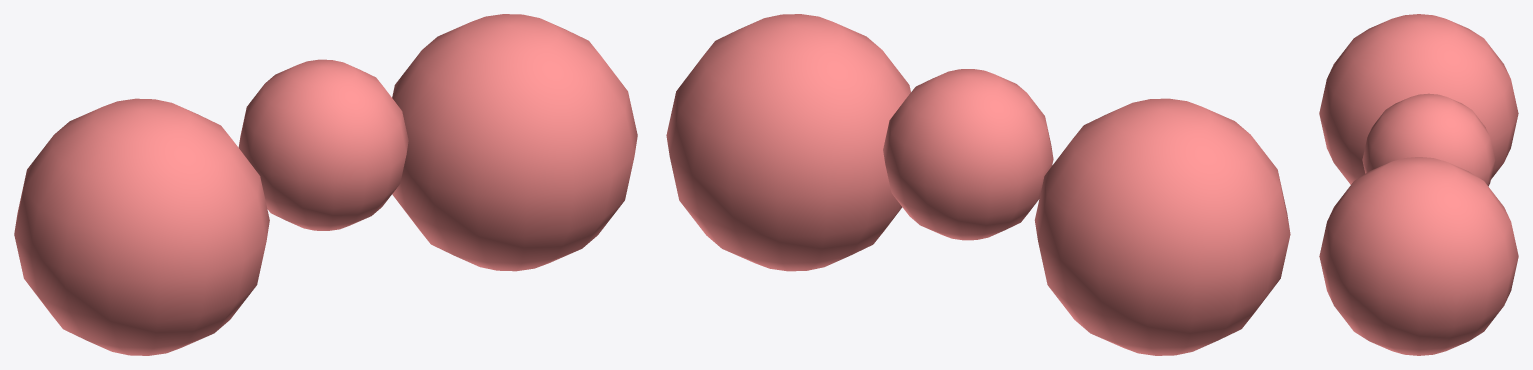
The model's file is only spheres.glb.
The picture shows the model from 3 angles, left to right: view 1: azimuth 30°, elevation 25°; view 2: azimuth 150°, elevation 25°; view 3: azimuth 270°, elevation 25°; orthographic projection. The views are drawn at different scales.
Parts seen in each view (by area): view 1: Sphere001.002, Sphere001, Sphere001.001; view 2: Sphere001.002, Sphere001, Sphere001.001; view 3: Sphere001, Sphere001.002, Sphere001.001.
Part boxes in pixels (<box>): Sphere001.002: <box>14,98,269,355</box>; Sphere001: <box>392,14,637,271</box>; Sphere001.001: <box>238,59,408,230</box>; Sphere001.002: <box>1034,98,1290,355</box>; Sphere001: <box>666,14,910,271</box>; Sphere001.001: <box>883,69,1053,240</box>; Sphere001: <box>1319,157,1518,355</box>; Sphere001.002: <box>1319,14,1518,184</box>; Sphere001.001: <box>1362,93,1495,186</box>.
Size of the model in its own units: 0.0738 by 0.0285 by 0.0279.
